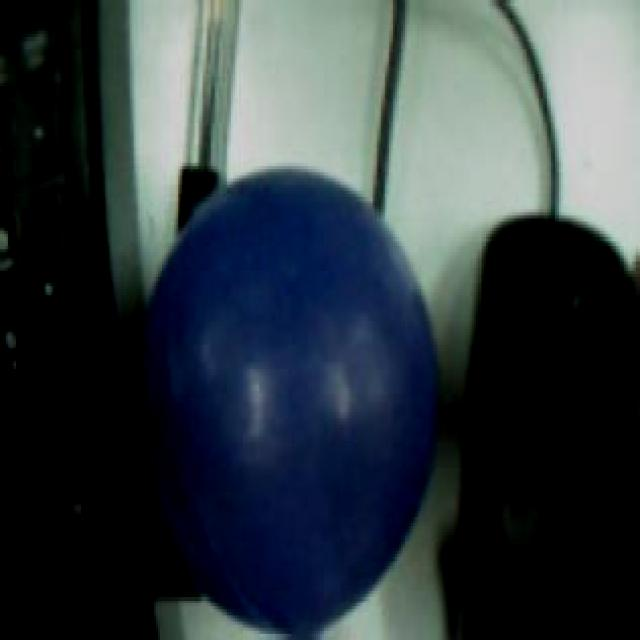BallPurple: (139, 163, 441, 640)
